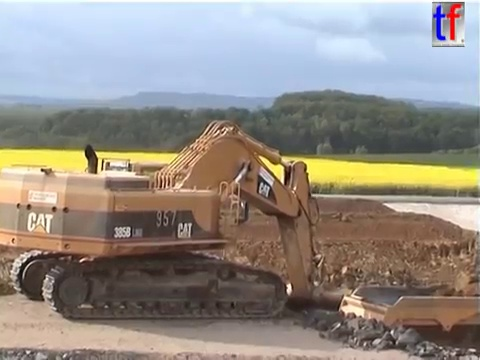excavator: (1, 114, 341, 324)
truck: (335, 280, 480, 360)
